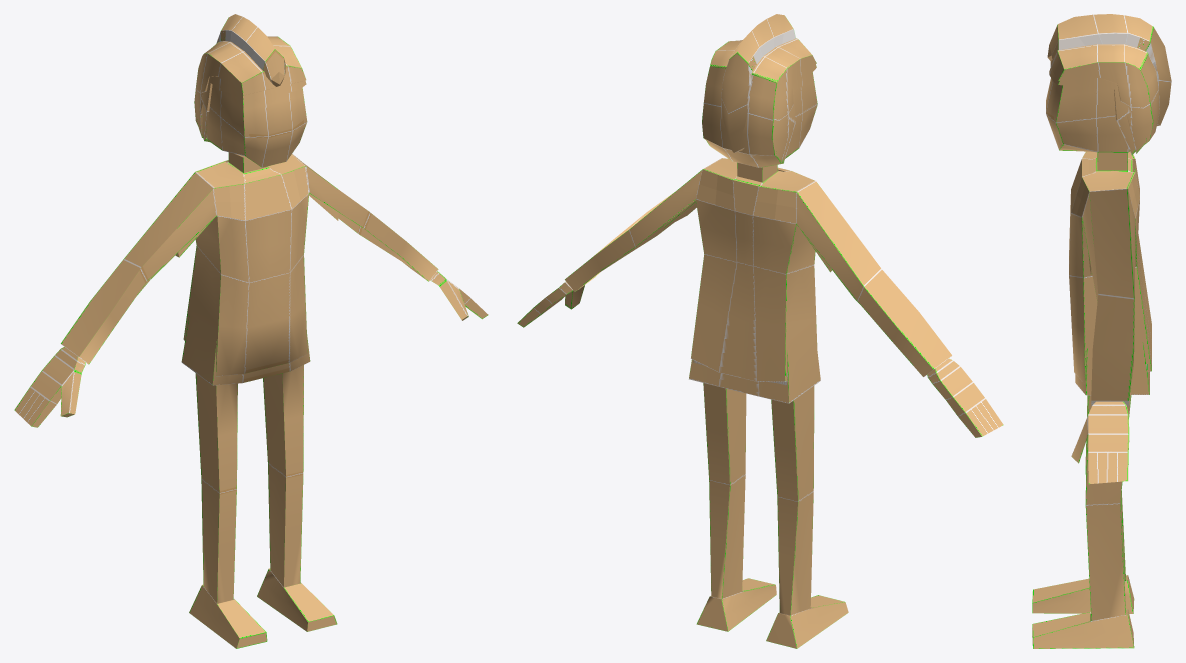
File: CharacterLowMaleClothes.fbx
3 views of the same model, side by side, from view 1: azimuth 30°, elevation 25°; view 2: azimuth 150°, elevation 25°; view 3: azimuth 270°, elevation 25° (orthographic). The views are drawn at different scales.
Parts seen in each view (by area): view 1: ShirtLong, PantsLong, Body, Shoes, ShirtShort, Hair1, Hair4, Hair2; view 2: ShirtLong, PantsLong, Hair2, Body, Shoes, ShirtShort, Hair4, Hair1; view 3: ShirtLong, Body, PantsLong, Shoes, Hair4, Hair2, Hair1, ShirtShort.
Boxes of the visible parts, bbox=[...] form: ShirtLong: bbox=[60, 154, 438, 376]; PantsLong: bbox=[195, 365, 303, 603]; Body: bbox=[14, 85, 488, 427]; Shoes: bbox=[189, 568, 337, 648]; ShirtShort: bbox=[175, 162, 338, 385]; Hair1: bbox=[197, 36, 306, 141]; Hair4: bbox=[216, 14, 285, 86]; Hair2: bbox=[194, 54, 306, 137]; ShirtLong: bbox=[565, 158, 952, 381]; PantsLong: bbox=[703, 383, 814, 615]; Hair2: bbox=[702, 55, 816, 167]; Body: bbox=[517, 72, 1003, 437]; Shoes: bbox=[696, 578, 848, 648]; ShirtShort: bbox=[664, 169, 832, 403]; Hair4: bbox=[721, 14, 795, 152]; Hair1: bbox=[710, 38, 816, 167]; ShirtLong: bbox=[1069, 151, 1151, 406]; Body: bbox=[1046, 78, 1129, 484]; PantsLong: bbox=[1085, 395, 1131, 620]; Shoes: bbox=[1032, 575, 1134, 648]; Hair4: bbox=[1047, 14, 1171, 125]; Hair2: bbox=[1050, 50, 1160, 153]; Hair1: bbox=[1049, 44, 1147, 154]; ShirtShort: bbox=[1075, 158, 1149, 395].
Bounding box in the file's own units: 1026 × 1263 × 262.
1 material, 1 textured.
